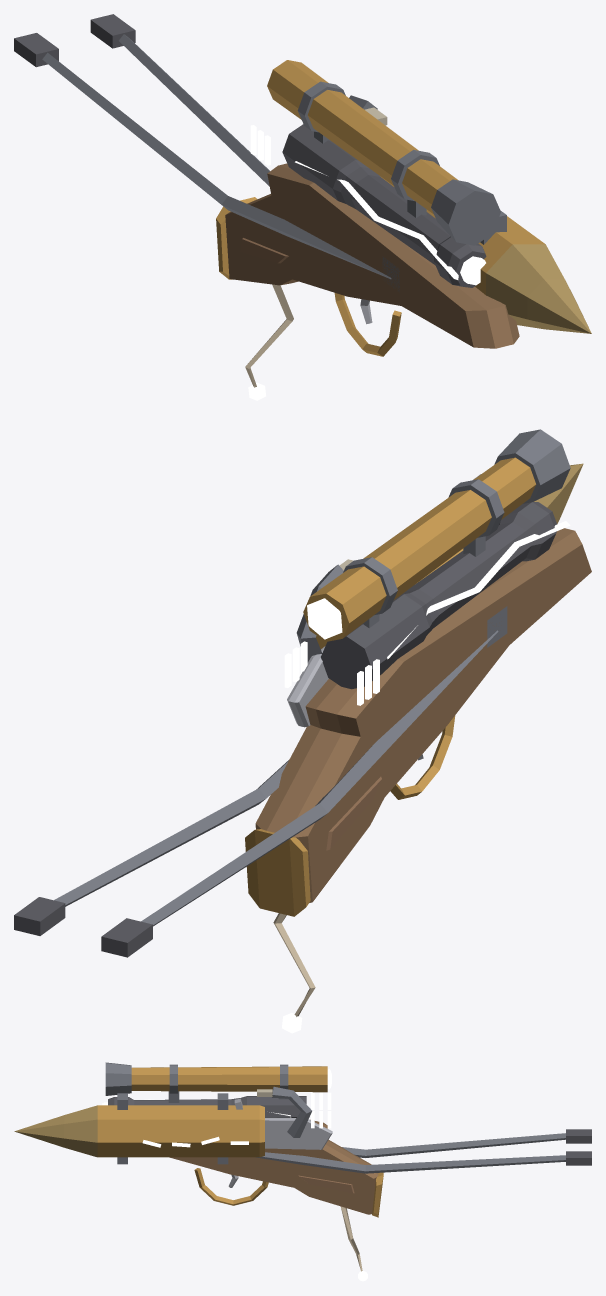
File: gun-one-round.glb
3 views of the same model, one above another, from view 1: azimuth 30°, elevation 25°; view 2: azimuth 150°, elevation 25°; view 3: azimuth 270°, elevation 25° (orthographic). The views are drawn at different scales.
Visible parts, largest first — view 1: gun-one-round, sway_sinew, pulse_vein, pulse_breath; view 2: gun-one-round, pulse_breath, pulse_vein, sway_sinew; view 3: gun-one-round, pulse_breath, sway_sinew.
Boxes of the visible parts, x1,y1,x2,y2 form: gun-one-round: (14, 14, 591, 356); sway_sinew: (245, 284, 293, 400); pulse_vein: (295, 161, 458, 279); pulse_breath: (250, 125, 270, 165); gun-one-round: (14, 429, 591, 957); pulse_breath: (284, 641, 379, 705); pulse_vein: (387, 521, 570, 659); sway_sinew: (273, 913, 315, 1033); gun-one-round: (14, 1062, 591, 1217); pulse_breath: (311, 1092, 331, 1128); sway_sinew: (340, 1206, 367, 1281).
Size of the model in its own units: 0.1718 by 0.4613 by 1.11.
